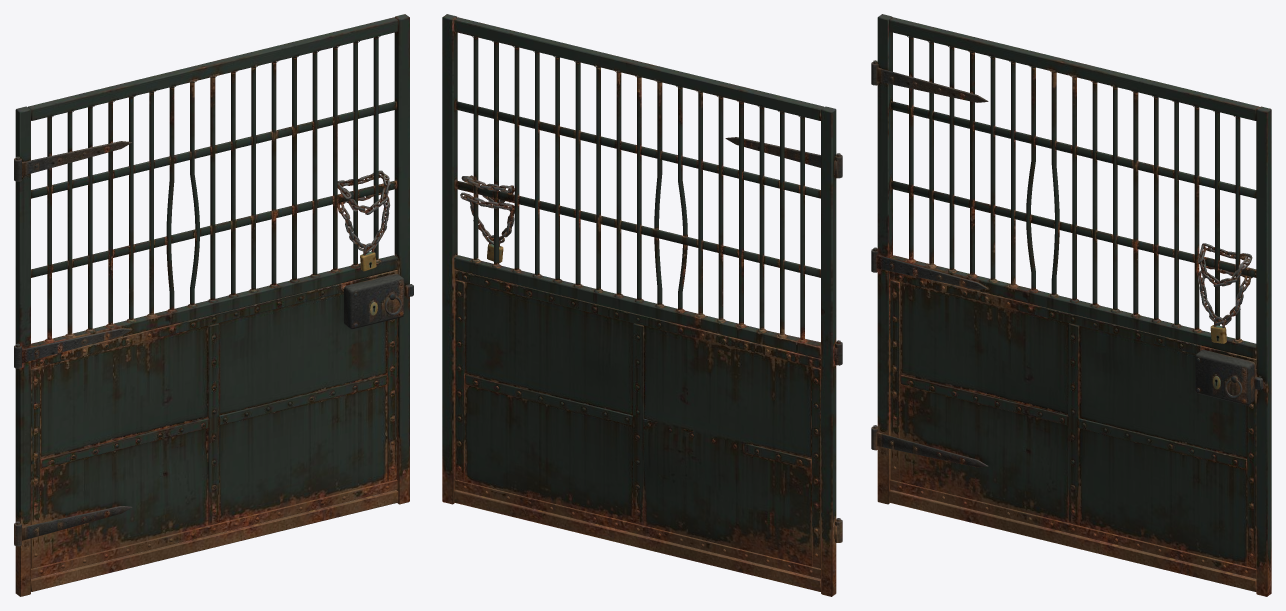
File: prop_breach_gate.glb
3 renders of one model, left to right at view 1: azimuth 30°, elevation 25°; view 2: azimuth 150°, elevation 25°; view 3: azimuth 330°, elevation 25°, orthographic.
Visible parts, largest first — view 1: Body; view 2: Body; view 3: Body.
Part boxes in pixels (x1=…): Body: x1=14, y1=14, x2=413, y2=596; Body: x1=442, y1=14, x2=842, y2=596; Body: x1=871, y1=14, x2=1271, y2=596.
Size of the model in its own units: 2.61 by 3.06 by 0.2035.
Materials: 2 (2 with a texture image).
